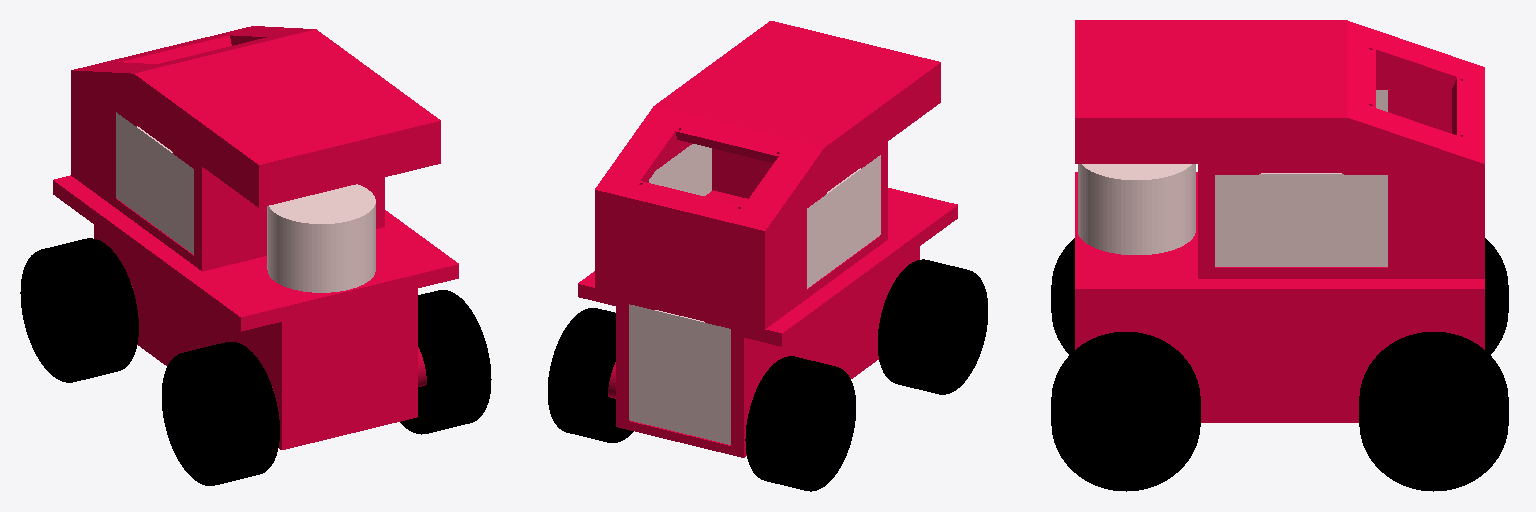
robot.urdf — fuze:
<?xml version="1.0" ?>
<robot name="fuze" xmlns:xacro="http://www.ros.org/wiki/xacro">
  <link name="base_link">
    <inertial>
      <origin xyz="0 0 0" rpy="0 0 0"/>
      <mass value="1.0"/> <inertia ixx="0.01" ixy="0" ixz="0" iyy="0.01" iyz="0" izz="0.01"/> </inertial>
    <visual>
      <origin xyz="0.078 -0.134063 0.03" rpy="1.5708 -0 -1.5708"/>
      <geometry>
        <mesh filename="package://fuze-bot/meshes/wheel_connector.stl"/>
      </geometry>
      <material name="wheel_connector_material_1"> <color rgba="0.81176 0.05882 0.27843 1.0"/> </material>
    </visual>
    <collision>
      <origin xyz="0.078 -0.134063 0.03" rpy="1.5708 -0 -1.5708"/>
      <geometry>
        <mesh filename="package://fuze-bot/meshes/wheel_connector.stl"/>
      </geometry>
    </collision>
    <visual>
      <origin xyz="2.77556e-17 0.17675 0.0761001" rpy="-1.5708 -0 0"/>
      <geometry>
        <mesh filename="package://fuze-bot/meshes/down_windows.stl"/>
      </geometry>
      <material name="down_windows_material">
        <color rgba="1.0 0.87059 0.87059 1.0"/> </material>
    </visual>
    <collision>
      <origin xyz="2.77556e-17 0.17675 0.0761001" rpy="-1.5708 -0 0"/>
      <geometry>
        <mesh filename="package://fuze-bot/meshes/down_windows.stl"/>
      </geometry>
    </collision>
    <visual>
      <origin xyz="-0.098 0.01875 0.205996" rpy="-1.5708 -2.35347e-17 1.5708"/>
      <geometry>
        <mesh filename="package://fuze-bot/meshes/top_windows.stl"/>
      </geometry>
      <material name="top_windows_material_1"> <color rgba="1.0 0.87059 0.87059 1.0"/> </material>
    </visual>
    <collision>
      <origin xyz="-0.098 0.01875 0.205996" rpy="-1.5708 -2.35347e-17 1.5708"/>
      <geometry>
        <mesh filename="package://fuze-bot/meshes/top_windows.stl"/>
      </geometry>
    </collision>
    <visual>
      <origin xyz="-0.1 0.05375 0.15" rpy="1.5708 -2.35347e-17 1.5708"/>
      <geometry>
        <mesh filename="package://fuze-bot/meshes/body_top.stl"/>
      </geometry>
      <material name="body_top_material">
        <color rgba="1.0 0.04314 0.33333 1.0"/> </material>
    </visual>
    <collision>
      <origin xyz="-0.1 0.05375 0.15" rpy="1.5708 -2.35347e-17 1.5708"/>
      <geometry>
        <mesh filename="package://fuze-bot/meshes/body_top.stl"/>
      </geometry>
    </collision>
    <visual>
      <origin xyz="0.098 0.01875 0.205996" rpy="1.5708 -2.35347e-17 1.5708"/>
      <geometry>
        <mesh filename="package://fuze-bot/meshes/top_windows.stl"/>
      </geometry>
      <material name="top_windows_material_2"> <color rgba="1.0 0.87059 0.87059 1.0"/> </material>
    </visual>
    <collision>
      <origin xyz="0.098 0.01875 0.205996" rpy="1.5708 -2.35347e-17 1.5708"/>
      <geometry>
        <mesh filename="package://fuze-bot/meshes/top_windows.stl"/>
      </geometry>
    </collision>
    <visual>
      <origin xyz="0.078 0.134063 0.03" rpy="1.5708 -0 -1.5708"/>
      <geometry>
        <mesh filename="package://fuze-bot/meshes/wheel_connector.stl"/>
      </geometry>
      <material name="wheel_connector_material_2"> <color rgba="0.81176 0.05882 0.27843 1.0"/> </material>
    </visual>
    <collision>
      <origin xyz="0.078 0.134063 0.03" rpy="1.5708 -0 -1.5708"/>
      <geometry>
        <mesh filename="package://fuze-bot/meshes/wheel_connector.stl"/>
      </geometry>
    </collision>
    <visual>
      <origin xyz="-0.078 0.134063 0.03" rpy="1.5708 -0 1.5708"/>
      <geometry>
        <mesh filename="package://fuze-bot/meshes/wheel_connector.stl"/>
      </geometry>
      <material name="wheel_connector_material_3"> <color rgba="0.81176 0.05882 0.27843 1.0"/> </material>
    </visual>
    <collision>
      <origin xyz="-0.078 0.134063 0.03" rpy="1.5708 -0 1.5708"/>
      <geometry>
        <mesh filename="package://fuze-bot/meshes/wheel_connector.stl"/>
      </geometry>
    </collision>
    <visual>
      <origin xyz="-0.078 -0.134062 0.03" rpy="1.5708 -0 1.5708"/>
      <geometry>
        <mesh filename="package://fuze-bot/meshes/wheel_connector.stl"/>
      </geometry>
      <material name="wheel_connector_material_4"> <color rgba="0.81176 0.05882 0.27843 1.0"/> </material>
    </visual>
    <collision>
      <origin xyz="-0.078 -0.134062 0.03" rpy="1.5708 -0 1.5708"/>
      <geometry>
        <mesh filename="package://fuze-bot/meshes/wheel_connector.stl"/>
      </geometry>
    </collision>
    <visual>
      <origin xyz="0 0.17875 0.0772241" rpy="0 -0 0"/>
      <geometry>
        <mesh filename="package://fuze-bot/meshes/base_link.stl"/>
      </geometry>
      <material name="base_link_main_material">
        <color rgba="1.0 0.04314 0.33333 1.0"/> </material>
    </visual>
    <collision>
      <origin xyz="0 0.17875 0.0772241" rpy="0 -0 0"/>
      <geometry>
        <mesh filename="package://fuze-bot/meshes/base_link.stl"/>
      </geometry>
    </collision>
  </link>

  <link name="rear_right_wheel_link">
    <inertial>
      <origin xyz="0 0 0" rpy="0 0 0"/>
      <mass value="0.1"/> <inertia ixx="0.001" ixy="0" ixz="0" iyy="0.001" iyz="0" izz="0.002"/>
    </inertial>
    <visual>
      <origin xyz="0 0 -0.035" rpy="0 -0 0"/>
      <geometry>
        <mesh filename="package://fuze-bot/meshes/wheel.stl"/>
      </geometry>
      <material name="rear_right_wheel_material">
        <color rgba="0.0 0.0 0.0 1.0"/> </material>
    </visual>
    <collision>
      <origin xyz="0 0 -0.035" rpy="0 -0 0"/>
      <geometry>
        <mesh filename="package://fuze-bot/meshes/wheel.stl"/>
      </geometry>
    </collision>
  </link>
  <joint name="rear_right_wheel_joint" type="revolute">
    <origin xyz="-0.111 0.134063 0.03" rpy="-3.14159 -1.5708 0"/> <parent link="base_link"/>
    <child link="rear_right_wheel_link"/>
    <axis xyz="0 0 1"/> <limit effort="10" velocity="10" lower="-3.141592653589793" upper="3.141592653589793"/>
  </joint>

  <link name="front_right_wheel_link">
    <inertial>
      <origin xyz="0 0 0" rpy="0 0 0"/>
      <mass value="0.1"/>
      <inertia ixx="0.001" ixy="0" ixz="0" iyy="0.001" iyz="0" izz="0.002"/>
    </inertial>
    <visual>
      <origin xyz="0 0 -0.035" rpy="0 -0 0"/>
      <geometry>
        <mesh filename="package://fuze-bot/meshes/wheel.stl"/>
      </geometry>
      <material name="front_right_wheel_material">
        <color rgba="0.0 0.0 0.0 1.0"/> </material>
    </visual>
    <collision>
      <origin xyz="0 0 -0.035" rpy="0 -0 0"/>
      <geometry>
        <mesh filename="package://fuze-bot/meshes/wheel.stl"/>
      </geometry>
    </collision>
  </link>
  <joint name="front_right_wheel_joint" type="revolute">
    <origin xyz="-0.111 -0.134062 0.03" rpy="-3.14159 -1.5708 0"/> <parent link="base_link"/>
    <child link="front_right_wheel_link"/>
    <axis xyz="0 0 1"/>
    <limit effort="10" velocity="10" lower="-3.141592653589793" upper="3.141592653589793"/>
  </joint>

  <link name="rear_left_wheel_link">
    <inertial>
      <origin xyz="0 0 0" rpy="0 0 0"/>
      <mass value="0.1"/>
      <inertia ixx="0.001" ixy="0" ixz="0" iyy="0.001" iyz="0" izz="0.002"/>
    </inertial>
    <visual>
      <origin xyz="0 0 -0.035" rpy="0 -0 0"/>
      <geometry>
        <mesh filename="package://fuze-bot/meshes/wheel.stl"/>
      </geometry>
      <material name="rear_left_wheel_material">
        <color rgba="0.0 0.0 0.0 1.0"/> </material>
    </visual>
    <collision>
      <origin xyz="0 0 -0.035" rpy="0 -0 0"/>
      <geometry>
        <mesh filename="package://fuze-bot/meshes/wheel.stl"/>
      </geometry>
    </collision>
  </link>
  <joint name="rear_left_wheel_joint" type="revolute">
    <origin xyz="0.111 0.134063 0.03" rpy="-3.14159 1.5708 0"/> <parent link="base_link"/>
    <child link="rear_left_wheel_link"/>
    <axis xyz="0 0 1"/>
    <limit effort="10" velocity="10" lower="-3.141592653589793" upper="3.141592653589793"/>
  </joint>

  <link name="front_left_wheel_link">
    <inertial>
      <origin xyz="0 0 0" rpy="0 0 0"/>
      <mass value="0.1"/>
      <inertia ixx="0.001" ixy="0" ixz="0" iyy="0.001" iyz="0" izz="0.002"/>
    </inertial>
    <visual>
      <origin xyz="0 0 -0.035" rpy="0 -0 0"/>
      <geometry>
        <mesh filename="package://fuze-bot/meshes/wheel.stl"/>
      </geometry>
      <material name="front_left_wheel_material">
        <color rgba="0.0 0.0 0.0 1.0"/> </material>
    </visual>
    <collision>
      <origin xyz="0 0 -0.035" rpy="0 -0 0"/>
      <geometry>
        <mesh filename="package://fuze-bot/meshes/wheel.stl"/>
      </geometry>
    </collision>
  </link>
  <joint name="front_left_wheel_joint" type="revolute">
    <origin xyz="0.111 -0.134063 0.03" rpy="-3.14159 1.5708 0"/> <parent link="base_link"/>
    <child link="front_left_wheel_link"/>
    <axis xyz="0 0 1"/>
    <limit effort="10" velocity="10" lower="-3.141592653589793" upper="3.141592653589793"/>
  </joint>

  <link name="laser_frame"> <inertial>
      <mass value="0.1"/> <origin xyz="0 0 0" rpy="0 0 0"/>
      <inertia ixx="1e-4" ixy="0" ixz="0" iyy="1e-4" iyz="0" izz="1e-4"/>
    </inertial>
    <visual>
      <origin xyz="0 0 0" rpy="0 0 0"/> <geometry>
        <mesh filename="package://fuze-bot/meshes/lidar.stl"/>
      </geometry>
      <material name="lidar_visual_material">
        <color rgba="1.0 0.87059 0.87059 1.0"/> </material>
    </visual>
    <collision>
      <origin xyz="0 0 0" rpy="0 0 0"/>
      <geometry>
        <mesh filename="package://fuze-bot/meshes/lidar.stl"/>
      </geometry>
    </collision>
  </link>

  <joint name="lidar_joint" type="fixed"> <parent link="base_link"/>
    <child link="laser_frame"/>
    <origin xyz="0 -0.12475 0.15" rpy="0 0 0"/> </joint>

</robot>

--- What the picture shows (computed from the rendered views, not written in the file) ---
The picture shows the robot from 3 angles, left to right: view 1: azimuth 30°, elevation 25°; view 2: azimuth 150°, elevation 25°; view 3: azimuth 270°, elevation 25°; orthographic projection.
Model fuze with 6 links and 5 joints (4 revolute, 1 fixed), rooted at base_link, posed all joints at 0.
Visible links, largest first — view 1: base_link, rear_right_wheel_link, front_right_wheel_link, laser_frame, front_left_wheel_link; view 2: base_link, rear_right_wheel_link, front_right_wheel_link, rear_left_wheel_link; view 3: base_link, rear_left_wheel_link, front_left_wheel_link, laser_frame, rear_right_wheel_link, front_right_wheel_link.
Link boxes in pixels (x1,y1,x2,y2): base_link: [53, 26, 458, 449]; rear_right_wheel_link: [20, 238, 138, 382]; front_right_wheel_link: [162, 342, 279, 485]; laser_frame: [267, 184, 375, 292]; front_left_wheel_link: [400, 290, 491, 434]; base_link: [578, 21, 957, 457]; rear_right_wheel_link: [745, 356, 855, 491]; front_right_wheel_link: [878, 259, 987, 394]; rear_left_wheel_link: [548, 308, 633, 442]; base_link: [1075, 20, 1484, 422]; rear_left_wheel_link: [1359, 332, 1508, 491]; front_left_wheel_link: [1051, 332, 1200, 491]; laser_frame: [1078, 164, 1195, 254]; rear_right_wheel_link: [1485, 238, 1508, 354]; front_right_wheel_link: [1051, 238, 1074, 354].
Bounding box of the posed robot: 0.292 × 0.3981 × 0.34 m (x, y, z).
Meshes: 7 distinct files referenced, 14 mesh visuals loaded (7 binary STL).